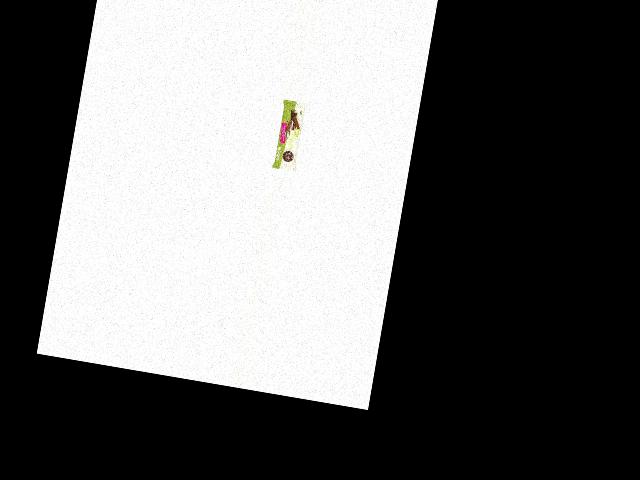chocolate: (269, 97, 309, 171)
